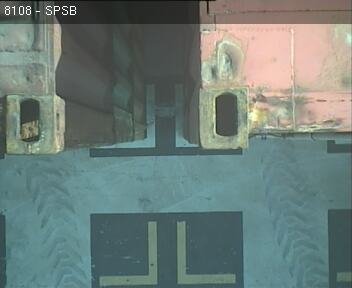groundmarker_1: (97, 222, 233, 285), (96, 84, 197, 146)
